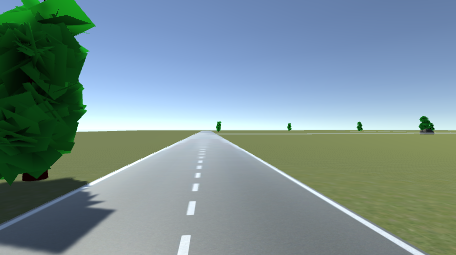tree: (1, 1, 91, 180), (418, 115, 435, 130), (356, 121, 363, 132), (216, 121, 222, 132), (287, 122, 292, 131)
